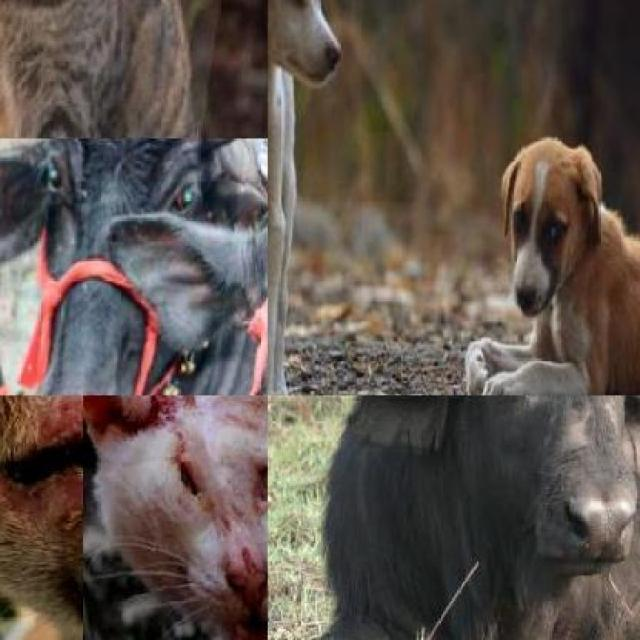buffalo: (317, 395, 640, 640), (0, 138, 258, 395), (180, 138, 268, 396)
cat: (83, 395, 268, 640), (0, 0, 252, 138)
dog: (489, 150, 640, 396), (267, 0, 338, 395), (0, 395, 83, 640)
injured: (170, 467, 267, 640), (0, 396, 83, 556), (83, 395, 206, 477)
